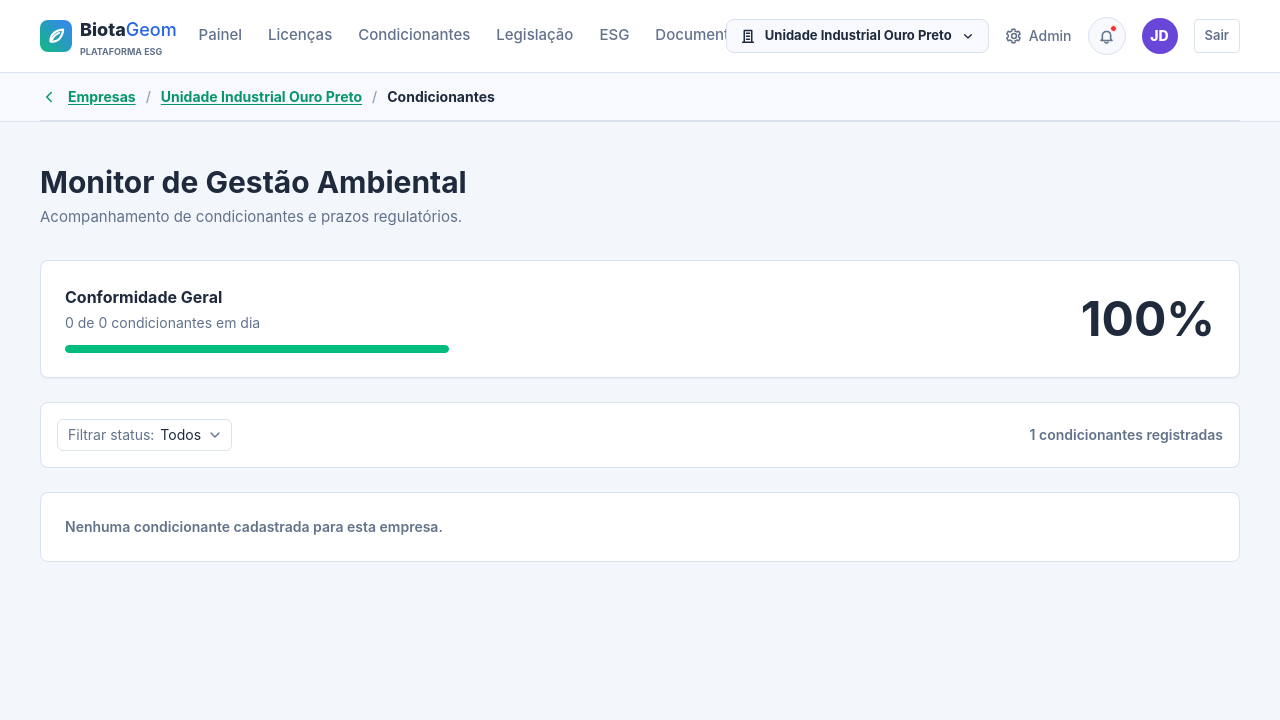
Test: CompanyConditionsPage › shows a filter-specific empty state and keeps the toolbar available
Click the dropdown labelled "Filtrar status" at [145, 435], box [57,419,232,451]
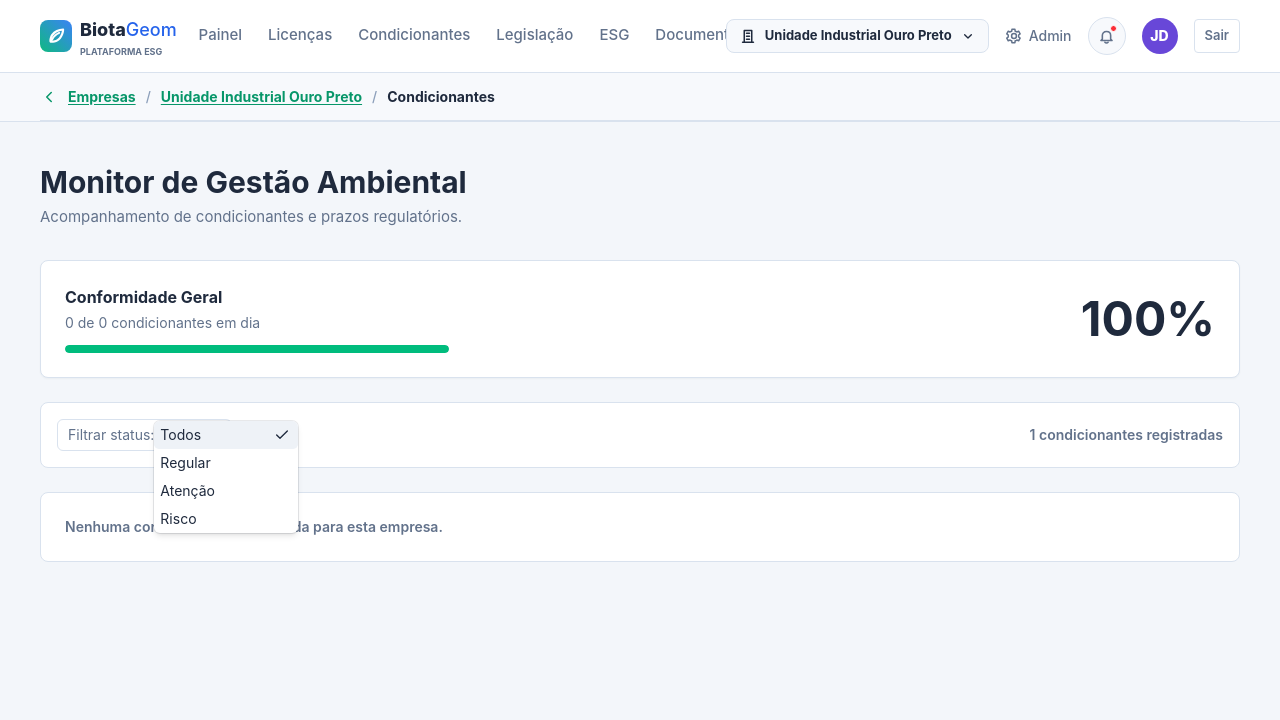
Click the option "Atenção" at [188, 490], box [160,482,215,499]
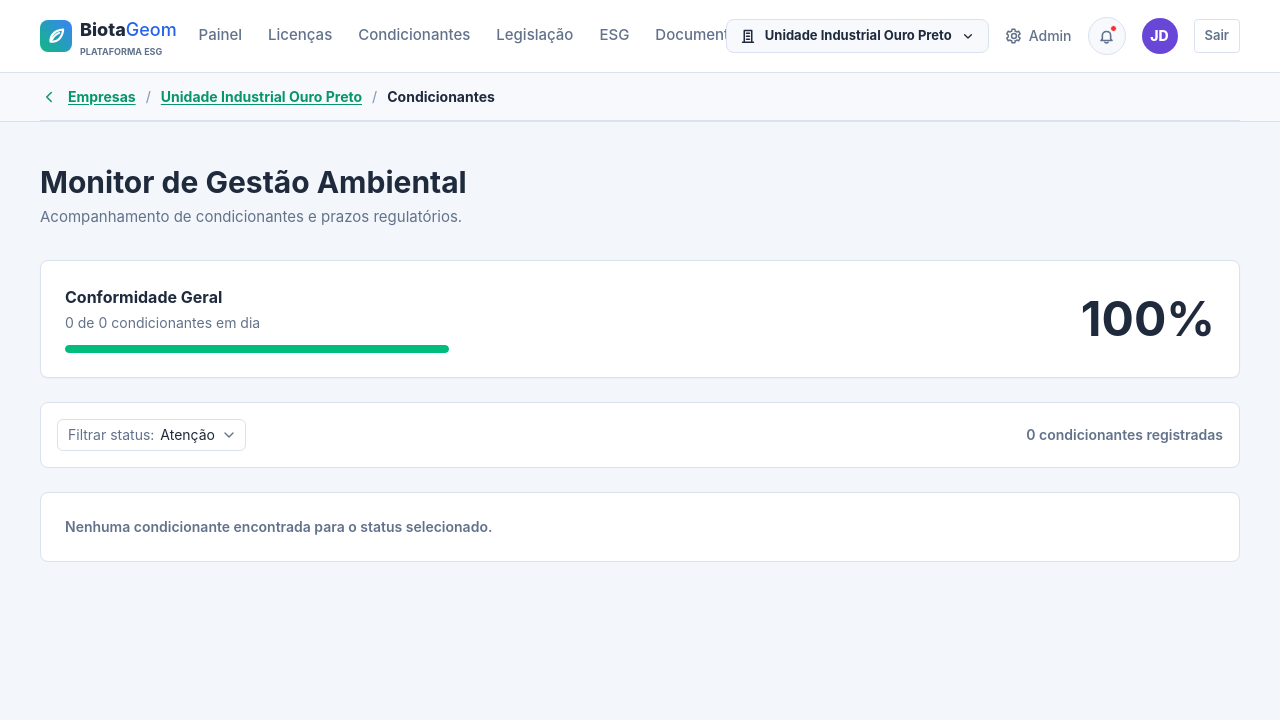
Check: the dropdown labelled "Filtrar status" is shown, box [57,419,246,451]
Check: the text "Nenhuma condicionante encontrada para o status selecionado." is shown, box [40,492,1240,562]
Check: the text "0 condicionantes registradas" is shown, box [1026,425,1223,445]
